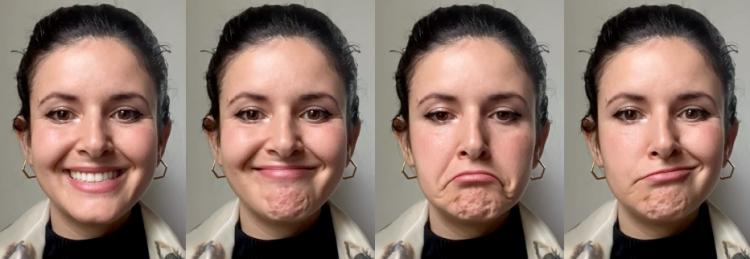feliz: (16, 21, 175, 228)
triste: (405, 40, 549, 236)
